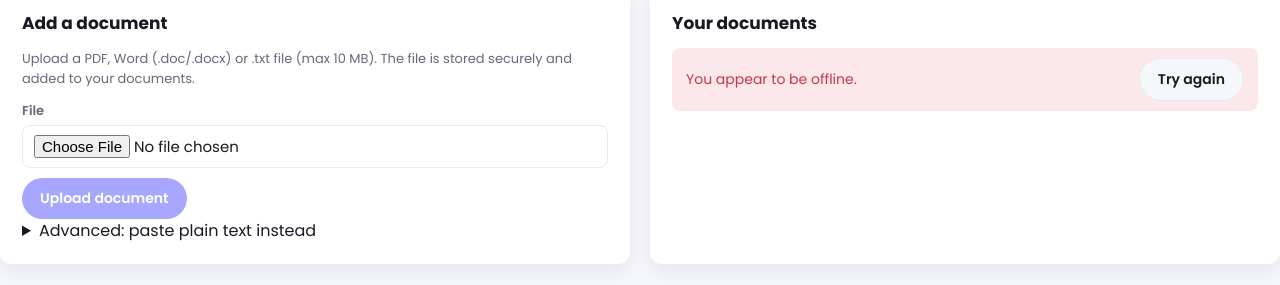
Test: DocumentsTab — loading / connectivity / retry › re-fetches when the user clicks Try again after a failed load
The image size is (1280, 285).
Step 1. Click the button "Try again" → (1191, 80), box [1139,58,1244,101]
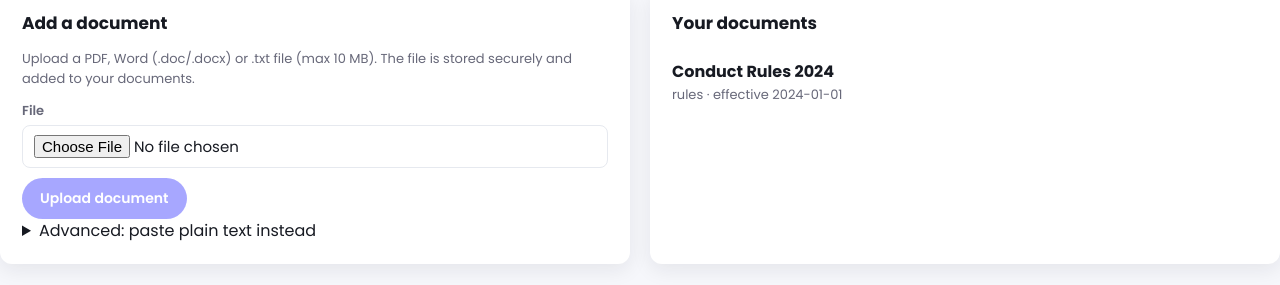
Check: the text "Conduct Rules 2024" is shown, box [672,60,834,83]
